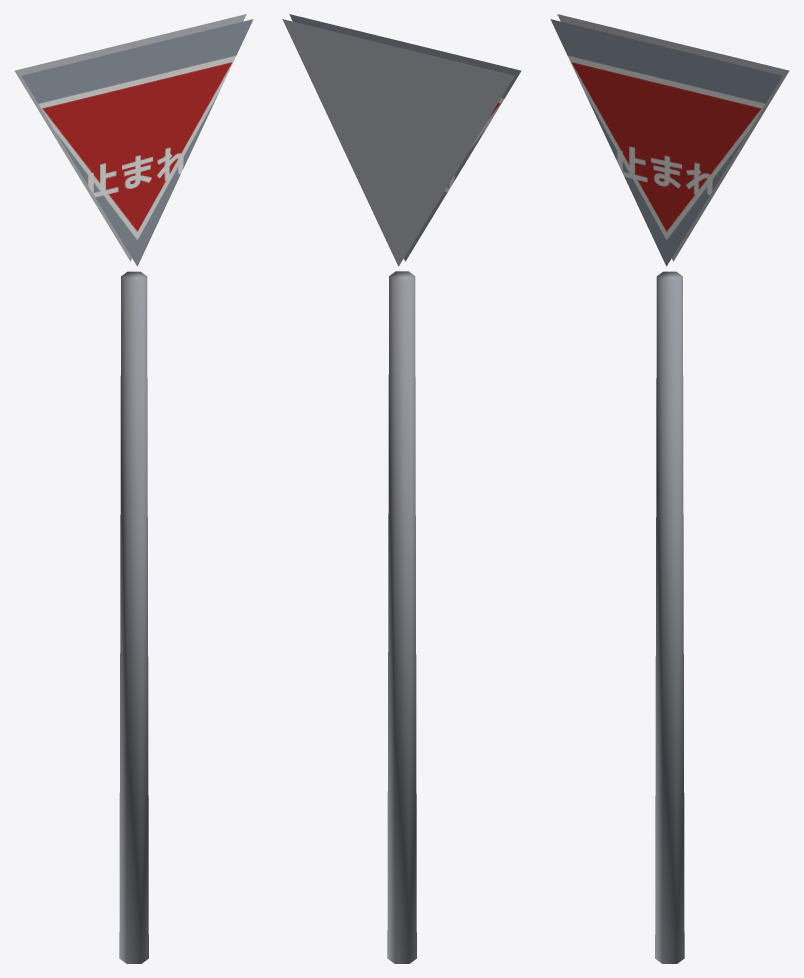
Rendered from prop-sign-stop.glb.
3 renders of one model, left to right at view 1: azimuth 30°, elevation 25°; view 2: azimuth 150°, elevation 25°; view 3: azimuth 330°, elevation 25°, orthographic.
Parts seen in each view (by area): view 1: sign-face, sign-post, sign-back; view 2: sign-back, sign-post, sign-face; view 3: sign-face, sign-post, sign-back.
Boxes of the visible parts, bbox=[...] form: sign-face: bbox=[21, 19, 253, 266]; sign-post: bbox=[119, 271, 148, 963]; sign-back: bbox=[14, 14, 246, 261]; sign-back: bbox=[282, 19, 514, 266]; sign-post: bbox=[387, 271, 416, 963]; sign-face: bbox=[289, 14, 521, 261]; sign-face: bbox=[550, 19, 782, 266]; sign-post: bbox=[655, 271, 684, 963]; sign-back: bbox=[557, 14, 789, 261].
Size of the model in its own units: 0.82 by 3.08 by 0.09.
Materials: 3 (1 with a texture image).
